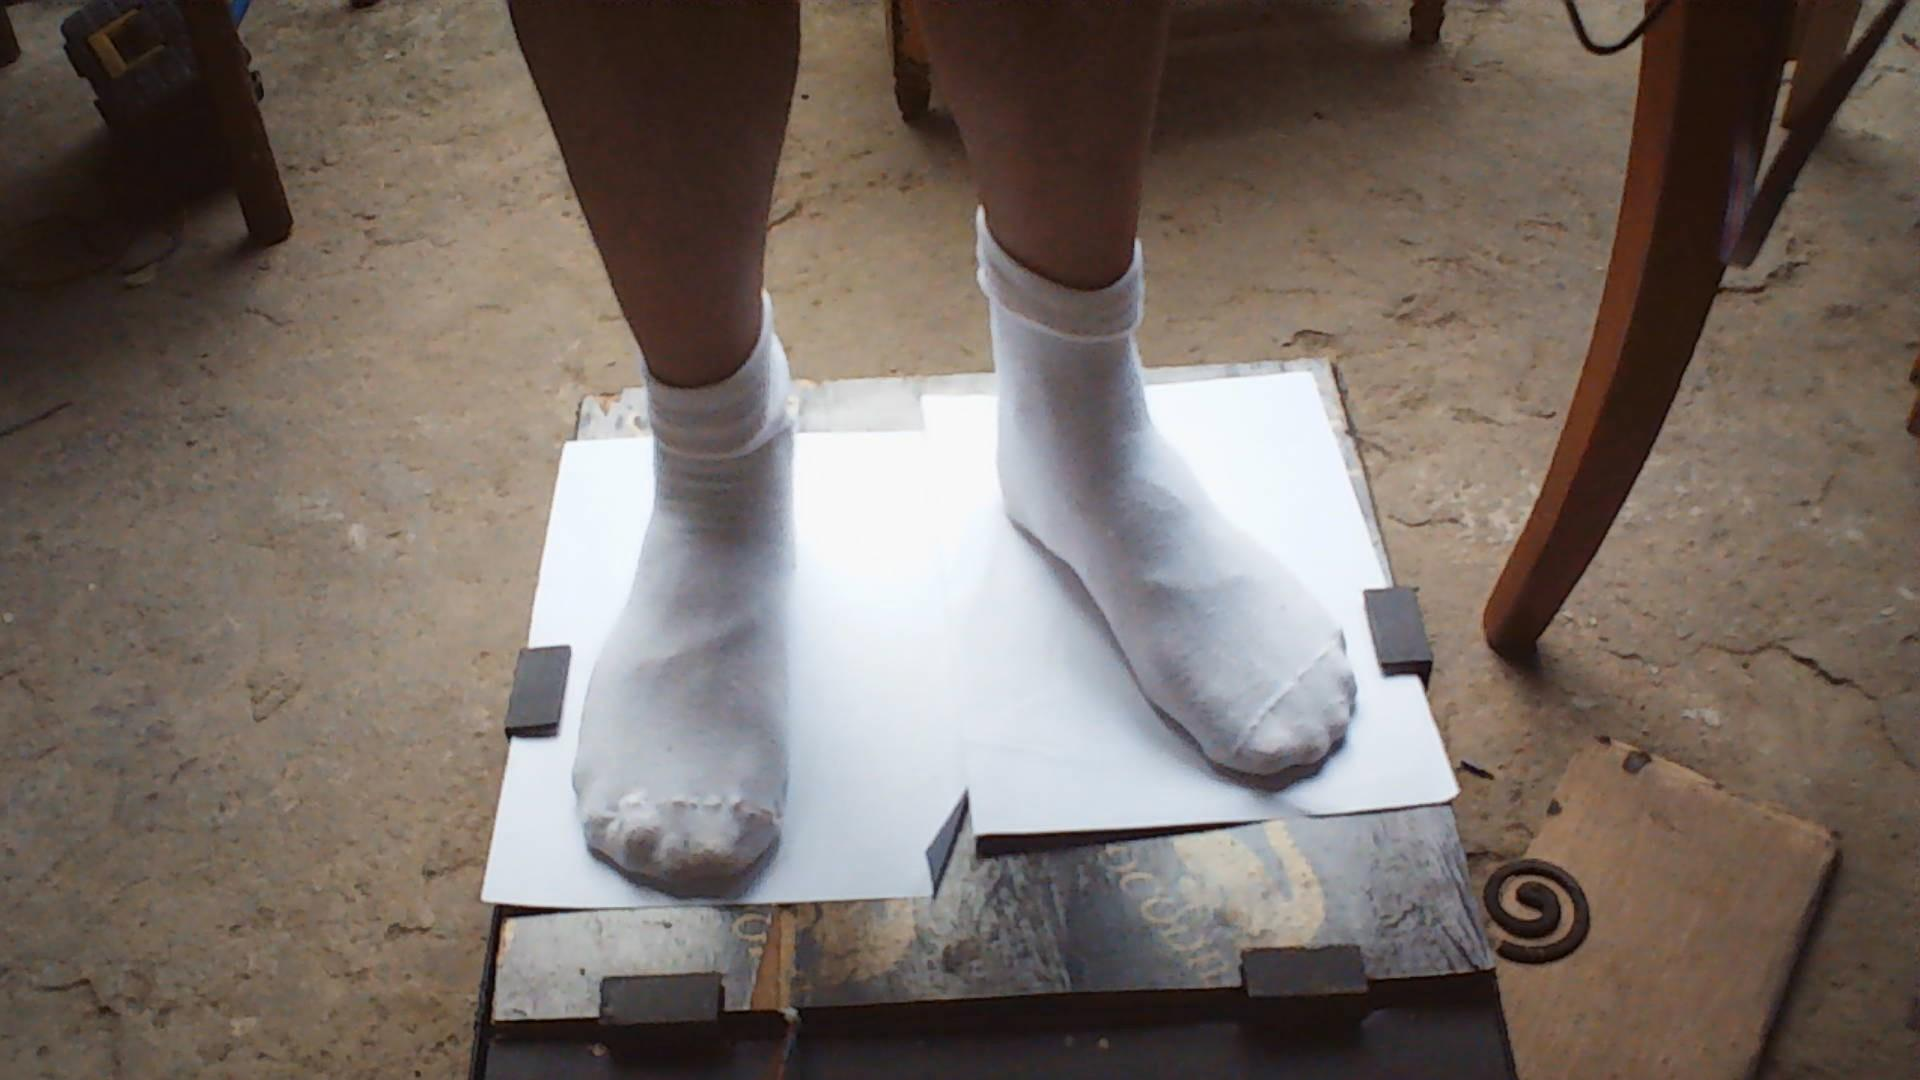white_socks: (976, 219, 1356, 775), (574, 334, 794, 894)
